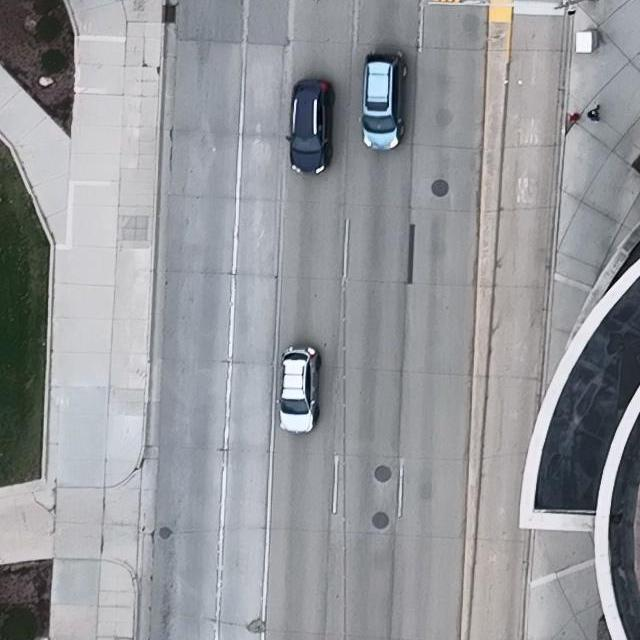car: (359, 51, 409, 152), (285, 78, 333, 176), (277, 344, 321, 433)
